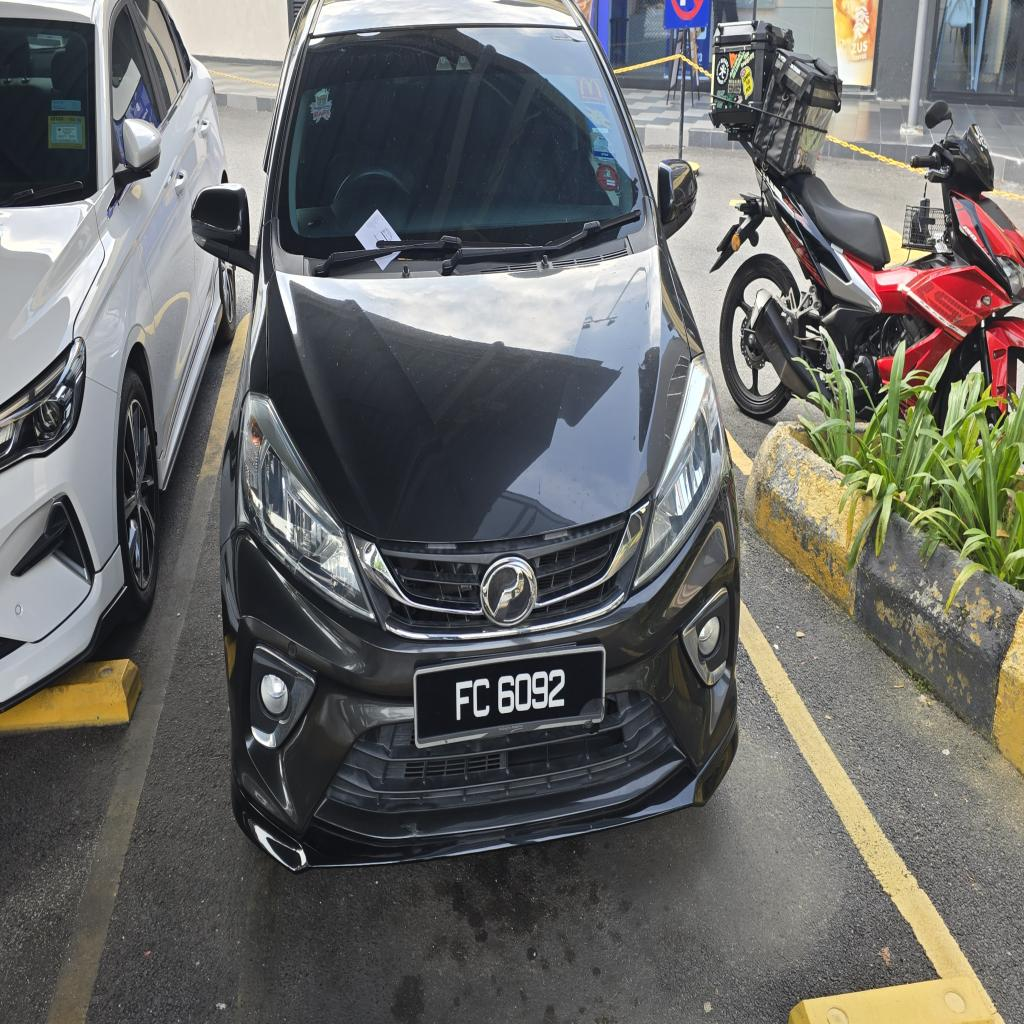car: (193, 0, 740, 869)
car plate: (414, 647, 604, 747)
